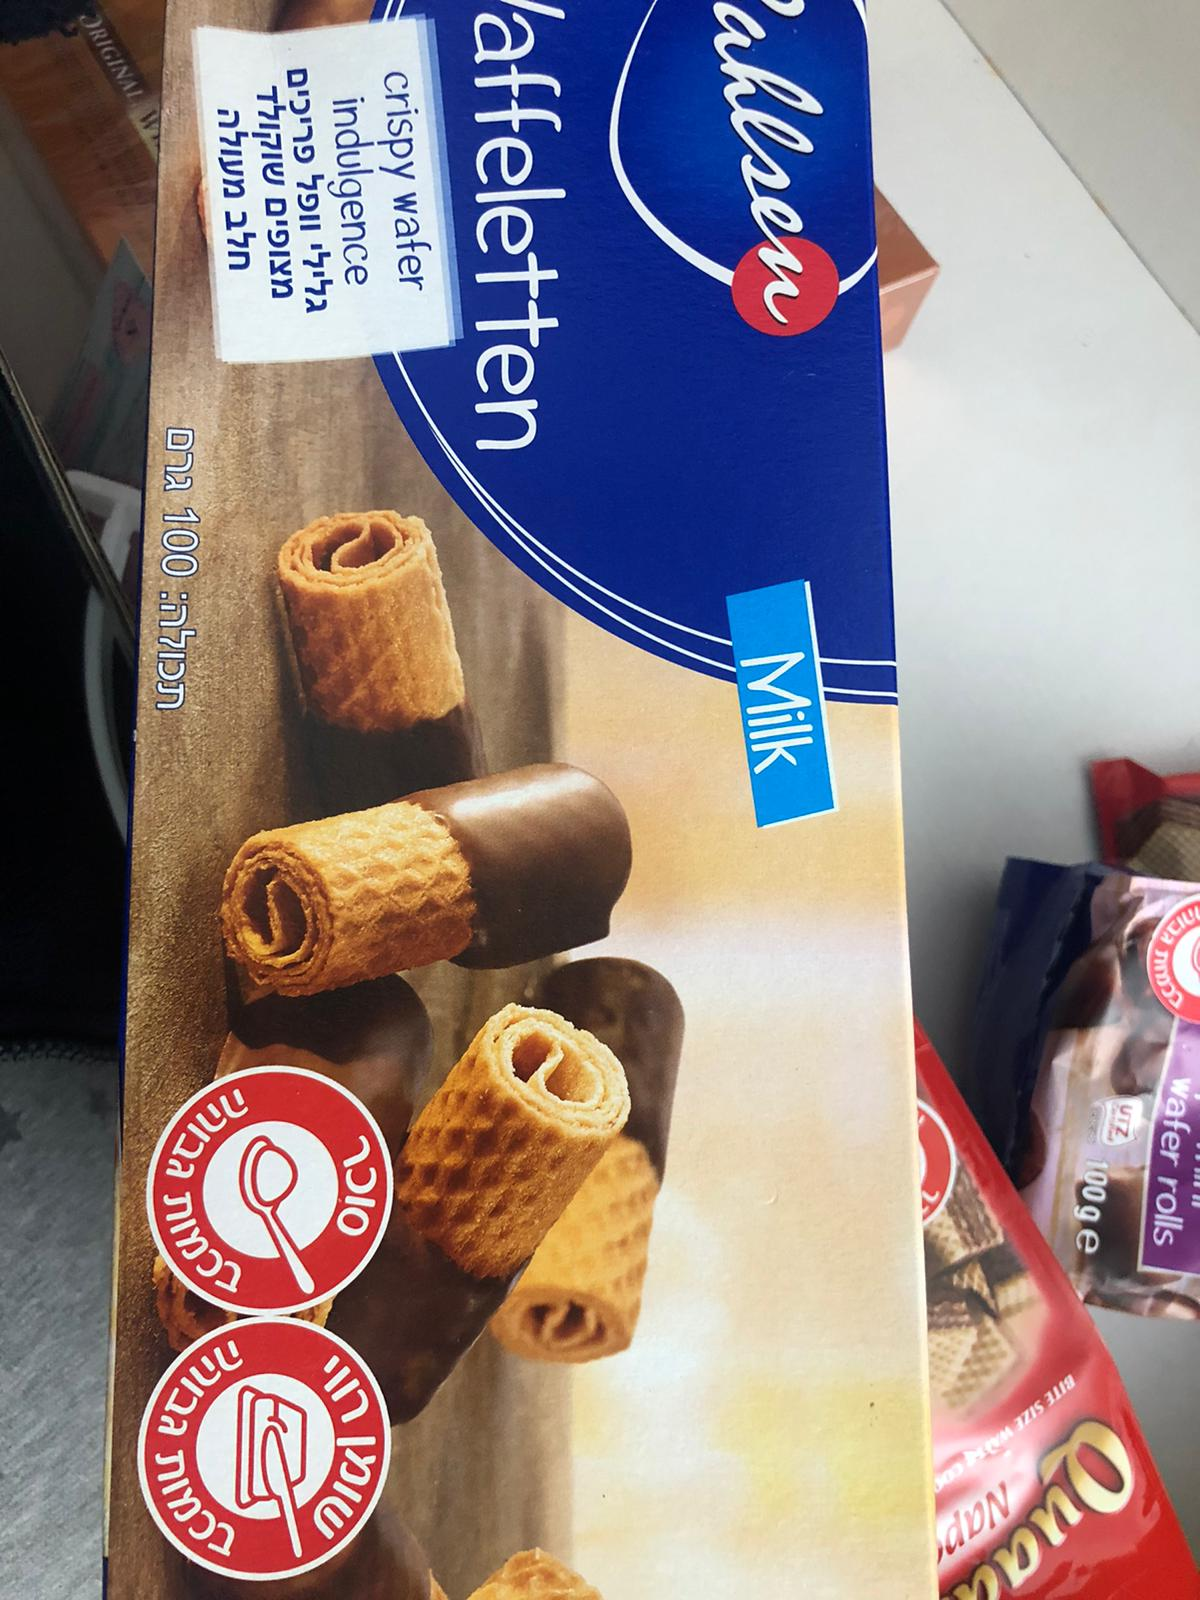fat: (132, 1317, 395, 1585)
sugar: (142, 1065, 395, 1318)
